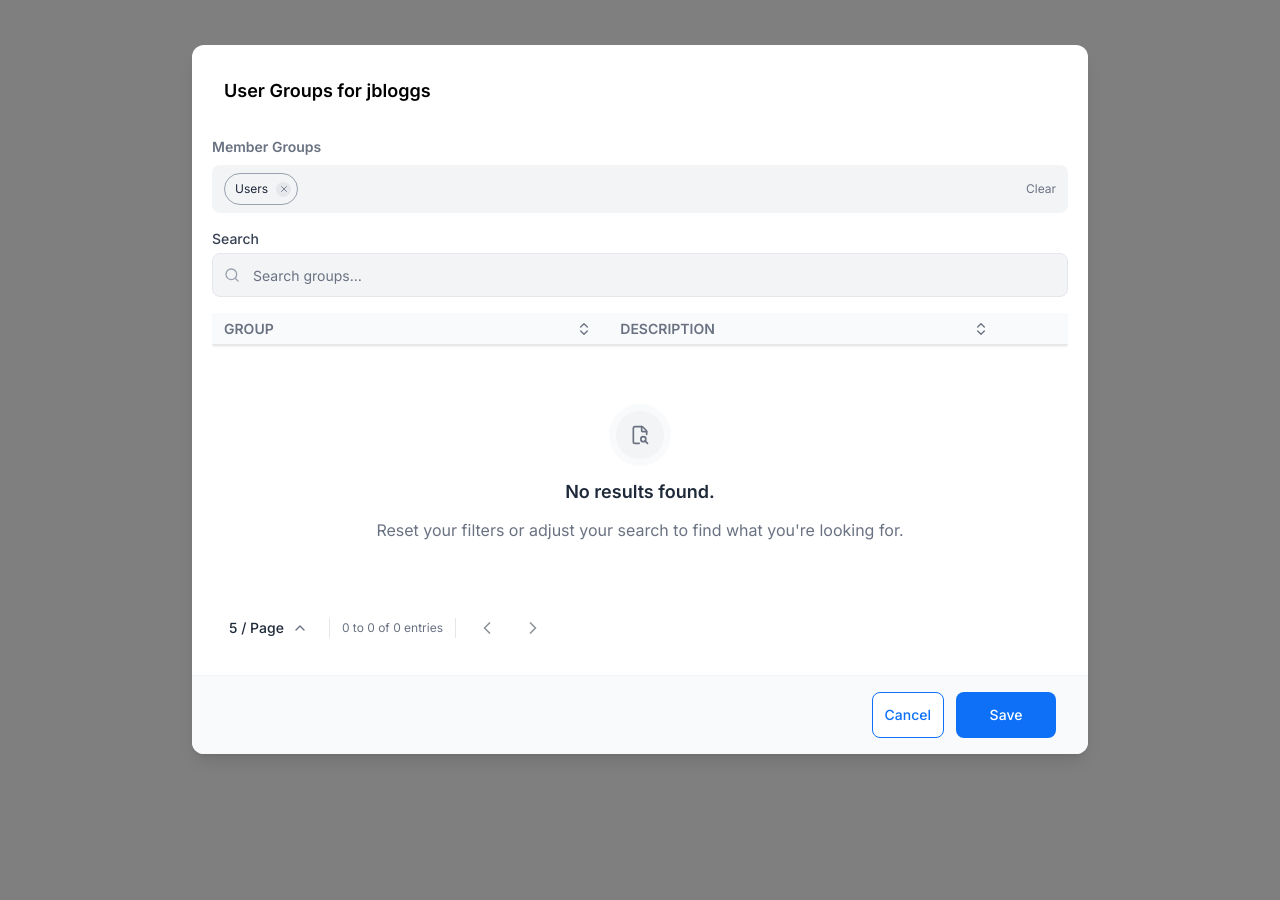
Test: UserGroupsModal › removing an assigned group takes it out of the assigned list
Expected: the text "Users" is shown, [235, 181, 268, 196]
Click the button named "Remove Users".
click(284, 189)  # box [276, 182, 291, 196]
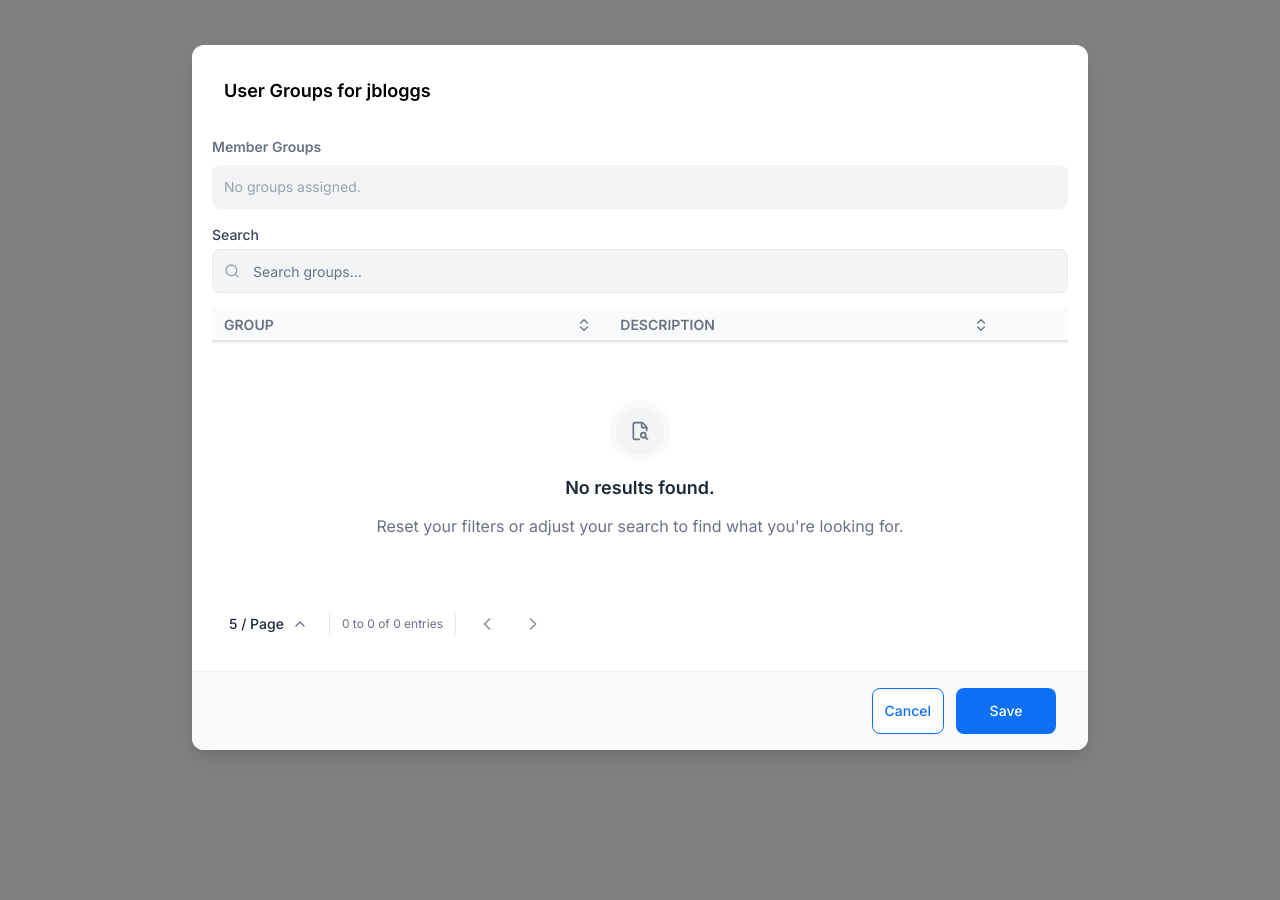
Now the text "Users" is gone
Now the text "No groups assigned." is shown, box [224, 178, 361, 195]
